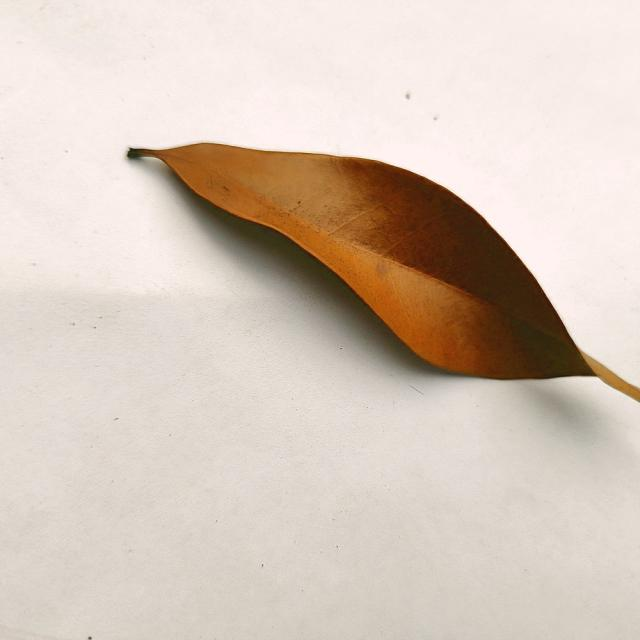Dry_Leaf-Lychee: (128, 143, 639, 406)
